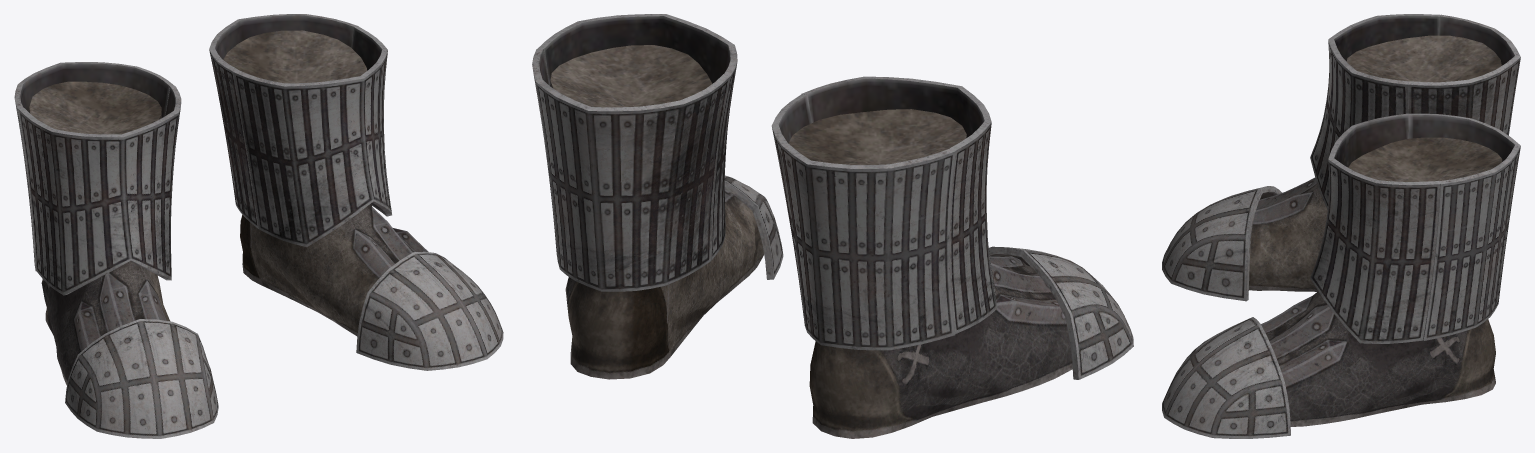
Rendered from sk_dwarf_iron_boots_heavy_b2.fbx.
3 renders of one model, left to right at view 1: azimuth 30°, elevation 25°; view 2: azimuth 150°, elevation 25°; view 3: azimuth 270°, elevation 25°, orthographic. The views are drawn at different scales.
Visible parts, largest first — view 1: sk_dwarf_iron_boots_heavy_b2; view 2: sk_dwarf_iron_boots_heavy_b2; view 3: sk_dwarf_iron_boots_heavy_b2.
Boxes of the visible parts, x1,y1,x2,y2 form: sk_dwarf_iron_boots_heavy_b2: (14,14,503,438); sk_dwarf_iron_boots_heavy_b2: (532,14,1133,438); sk_dwarf_iron_boots_heavy_b2: (1162,14,1520,438).
Size of the model in its own units: 0.5738 by 0.4274 by 0.3159.
1 material, 1 textured.
